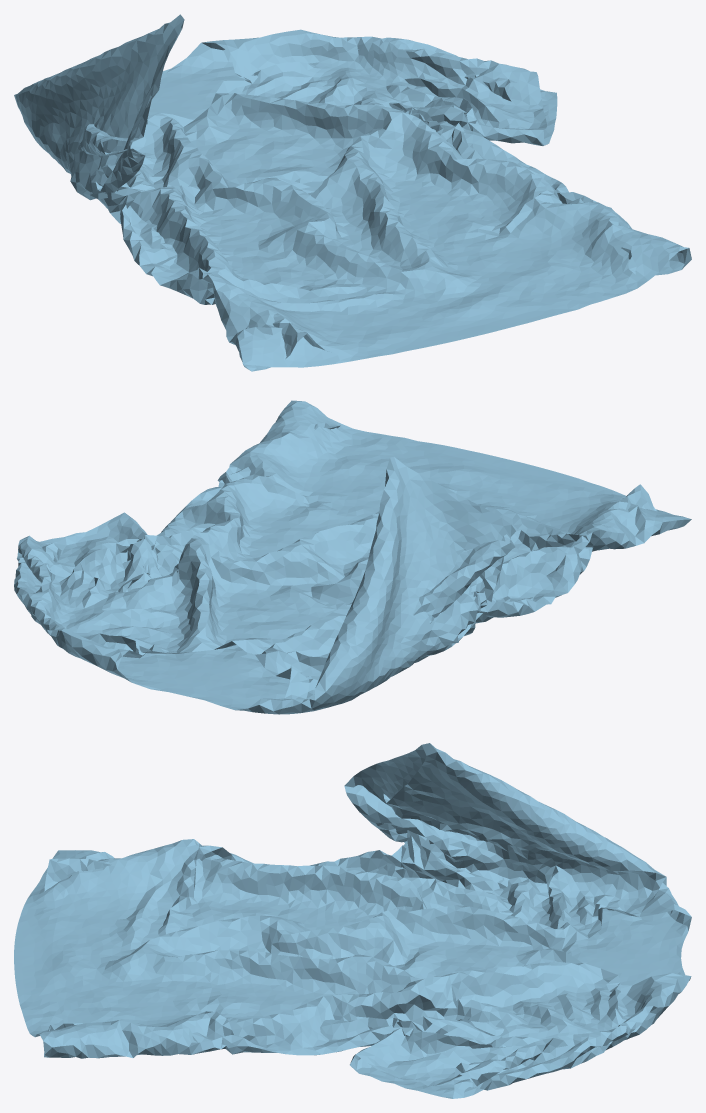
The model's file is frame_13.glb.
The picture shows the model from 3 angles, top to bottom: view 1: azimuth 30°, elevation 25°; view 2: azimuth 150°, elevation 25°; view 3: azimuth 270°, elevation 25°; orthographic projection. The views are drawn at different scales.
Visible parts, largest first — view 1: frame_13.obj; view 2: frame_13.obj; view 3: frame_13.obj.
Boxes of the visible parts, x1,y1,x2,y2 form: frame_13.obj: (14,14,691,371); frame_13.obj: (14,400,691,714); frame_13.obj: (14,743,691,1098).
Bounding box in the file's own units: 1.47 × 0.5094 × 1.73.
